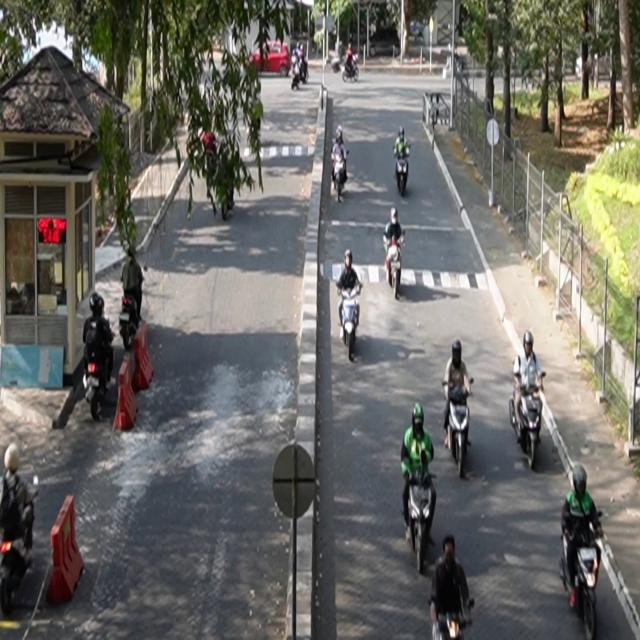car: (249, 41, 292, 78)
